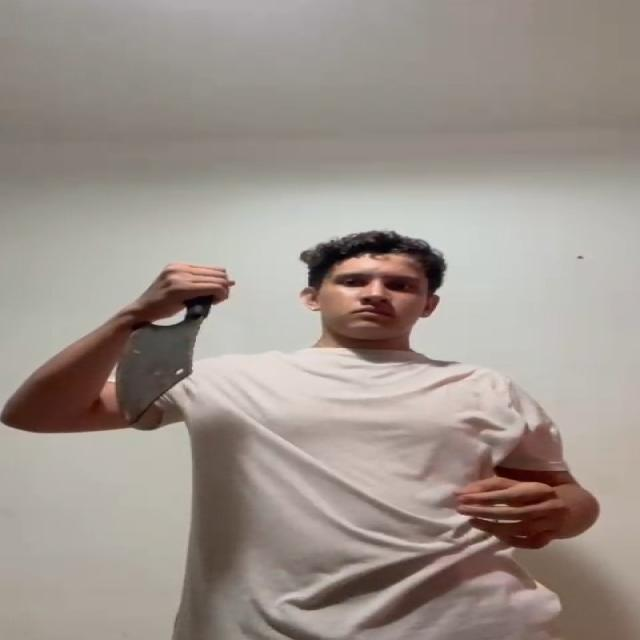knife: (108, 316, 207, 422)
